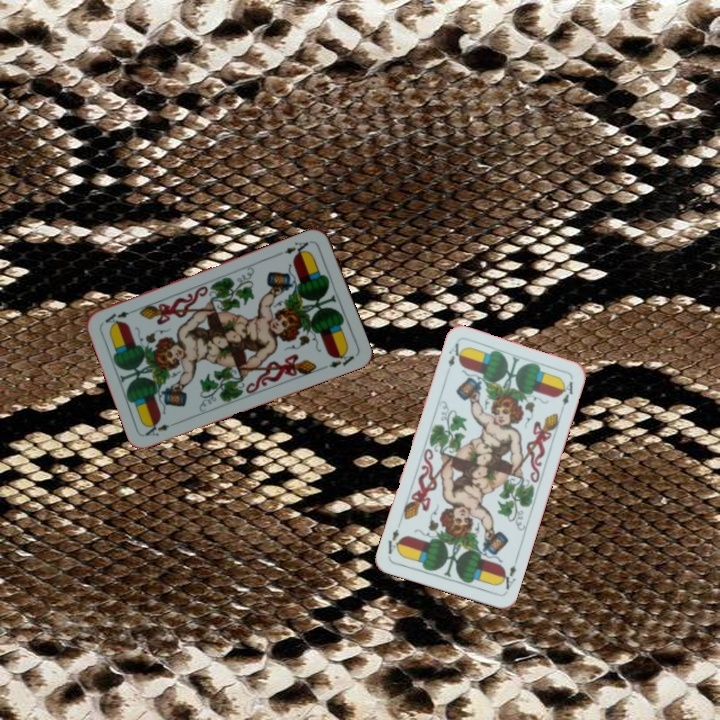EA: (496, 555, 520, 594), (141, 418, 181, 439), (280, 236, 314, 259), (444, 339, 464, 369)
